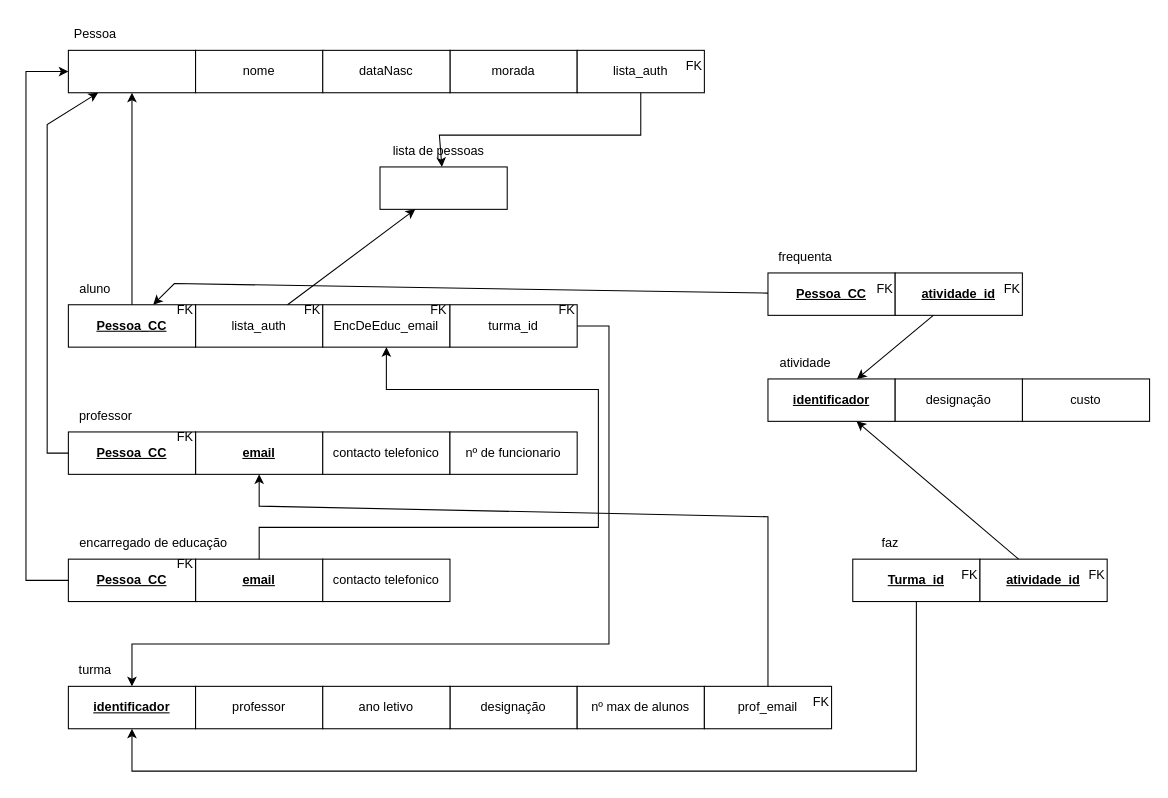
The diagram is 1168 pixels wide and 798 high, and some of its shapes have lost their labels. Here are the shapes that lost their labels. From the top down, the centre of each, then its label:
At pixel 131 71: "CC".
At pixel 443 187: "autorização".
